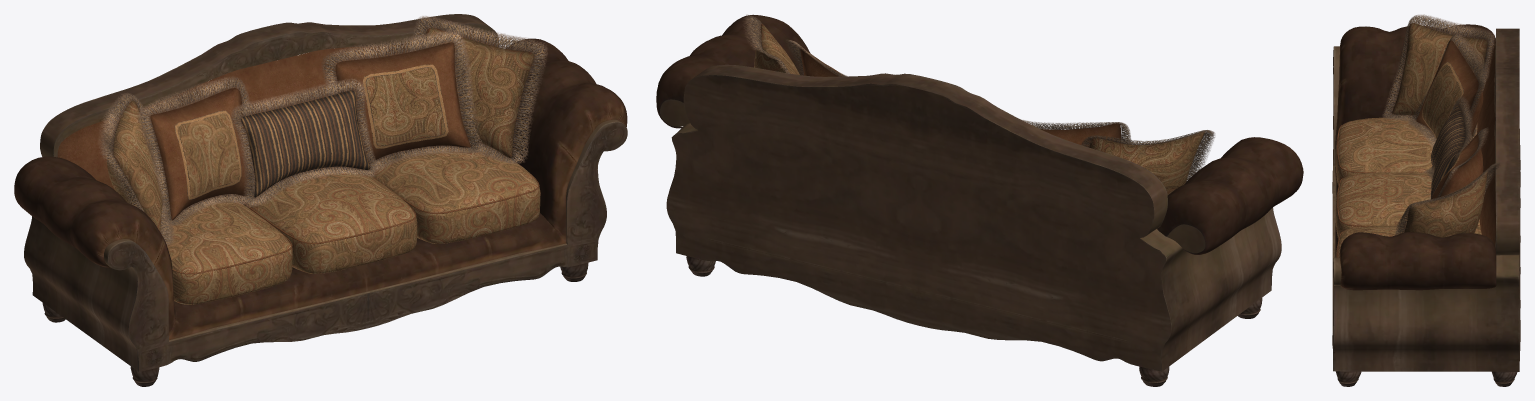
Rendered from sofa-classic.glb.
3 views of the same model, side by side, from view 1: azimuth 30°, elevation 25°; view 2: azimuth 150°, elevation 25°; view 3: azimuth 270°, elevation 25° (orthographic). The views are drawn at different scales.
Parts seen in each view (by area): view 1: Frame, Paisley, Fringe, Brown, Stripes, Frame_Fabric; view 2: Frame, Paisley, Fringe, Brown; view 3: Frame, Paisley, Fringe, Brown, Frame_Fabric, Stripes.
Part boxes in pixels (x1=…): Frame: x1=14, y1=14, x2=627, y2=386; Paisley: x1=107, y1=27, x2=540, y2=304; Fringe: x1=98, y1=16, x2=547, y2=245; Brown: x1=150, y1=42, x2=539, y2=274; Stripes: x1=174, y1=64, x2=448, y2=199; Frame_Fabric: x1=57, y1=34, x2=494, y2=189; Frame: x1=656, y1=14, x2=1303, y2=386; Paisley: x1=754, y1=23, x2=1204, y2=194; Fringe: x1=743, y1=14, x2=1214, y2=181; Brown: x1=800, y1=46, x2=1121, y2=147; Frame: x1=1332, y1=24, x2=1520, y2=386; Paisley: x1=1335, y1=23, x2=1487, y2=257; Fringe: x1=1382, y1=14, x2=1499, y2=235; Brown: x1=1337, y1=40, x2=1483, y2=257; Frame_Fabric: x1=1477, y1=39, x2=1495, y2=245; Stripes: x1=1422, y1=61, x2=1472, y2=198.
Size of the model in its own units: 2.73 by 1.12 by 0.9231.
Materials: 6 (6 with a texture image).
